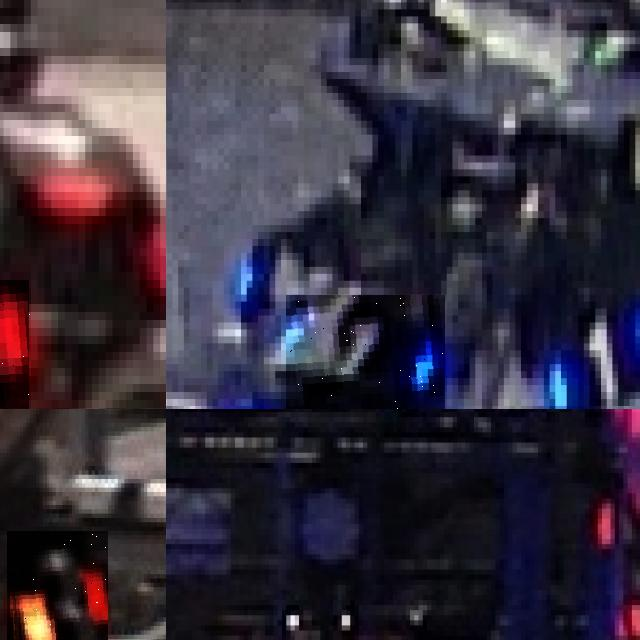B1: (286, 295, 446, 409), (523, 295, 640, 409)
R3: (7, 530, 108, 640)
